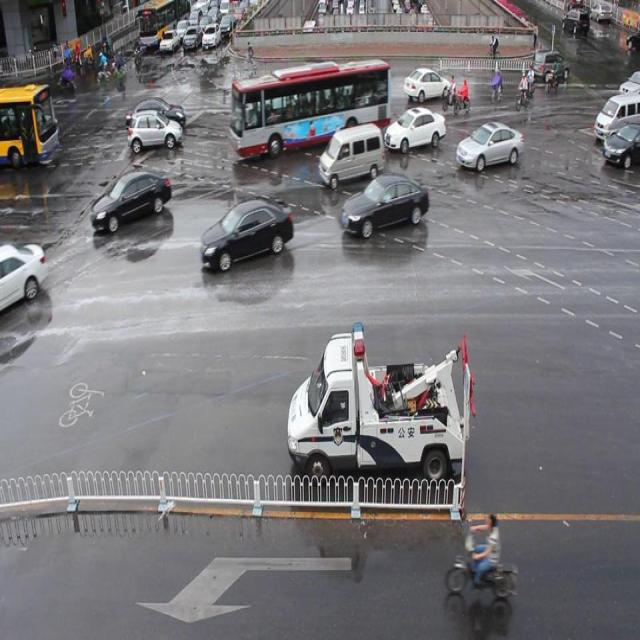bus: (286, 320, 475, 486)
car: (201, 196, 294, 273), (342, 174, 429, 238), (92, 169, 171, 230), (1, 240, 48, 316), (456, 123, 521, 170), (384, 106, 444, 152), (128, 112, 182, 150), (126, 99, 185, 130), (601, 124, 640, 170), (244, 79, 288, 115), (404, 66, 449, 100)
truck: (318, 126, 384, 187), (592, 92, 640, 142)
van: (229, 59, 392, 154)
